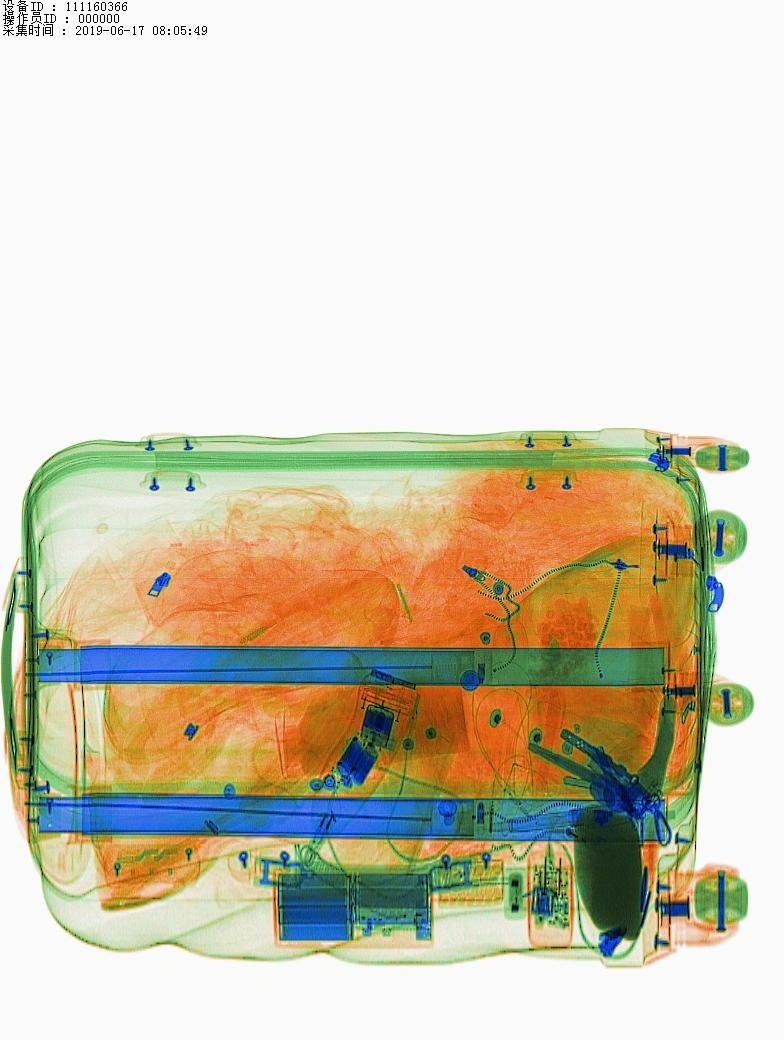NonmetallicFire: (543, 814, 640, 861)
